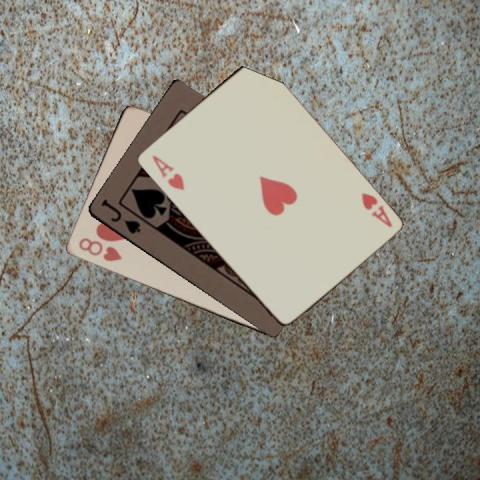8h: (76, 235, 124, 263)
Ah: (148, 152, 185, 192), (358, 189, 393, 229)
Js: (97, 196, 142, 235)
